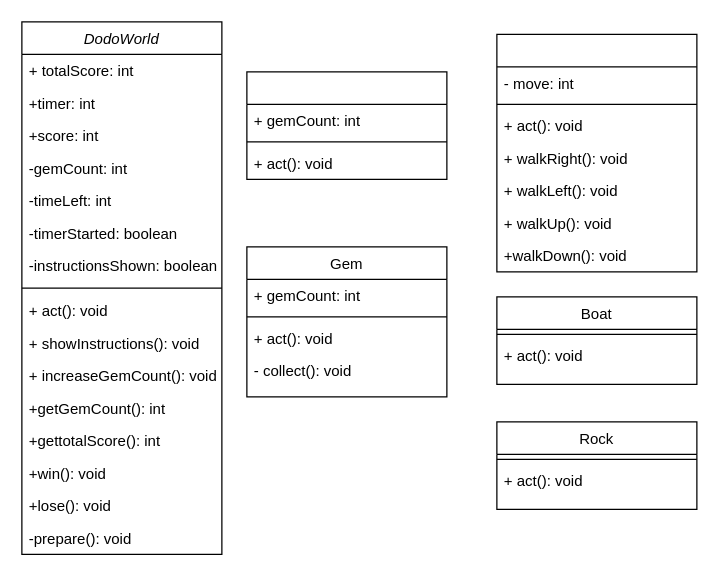
Image size: 719x580. Some labels were removed from this diagram. The shapes that lost their labels are listed below. From the top down, each one's box as (x1, y1, x2, y2) in pixels, then its label:
(246, 71, 447, 179): Dodo
(496, 33, 697, 272): Hunter
